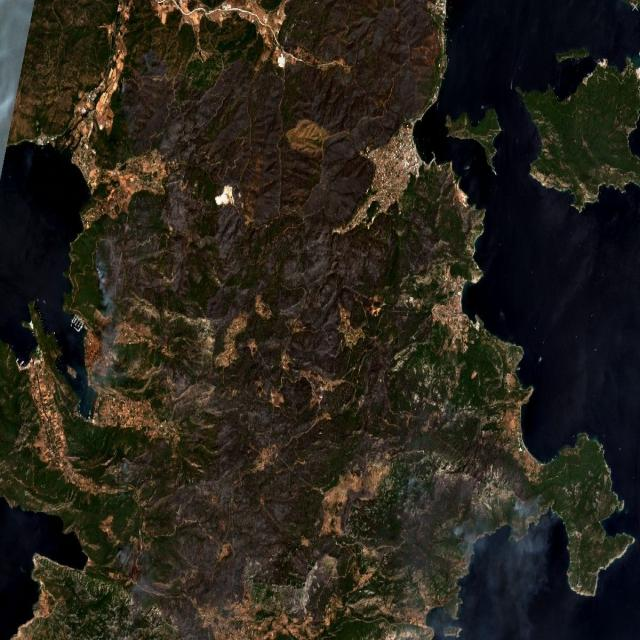fire: (504, 472, 550, 542), (86, 238, 110, 298)
